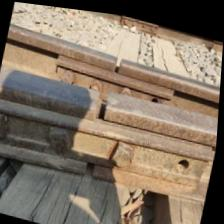person: (73, 77, 131, 132), (93, 38, 142, 86), (72, 149, 109, 187)
